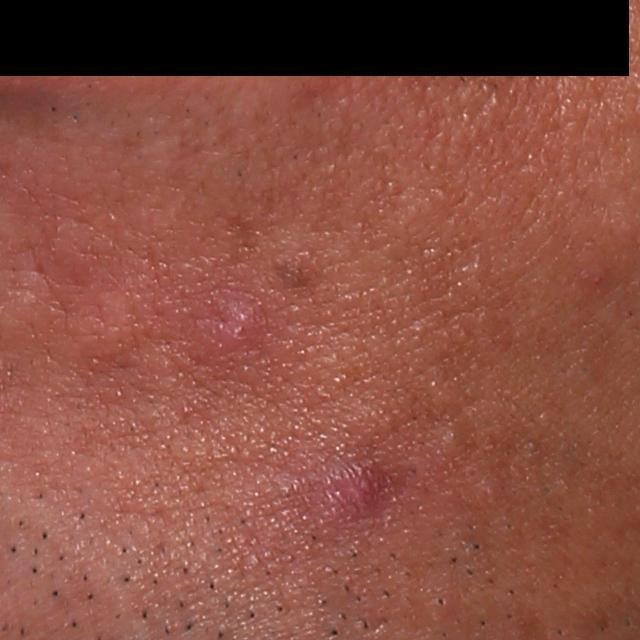papule: (328, 470, 400, 519), (210, 293, 272, 348)
